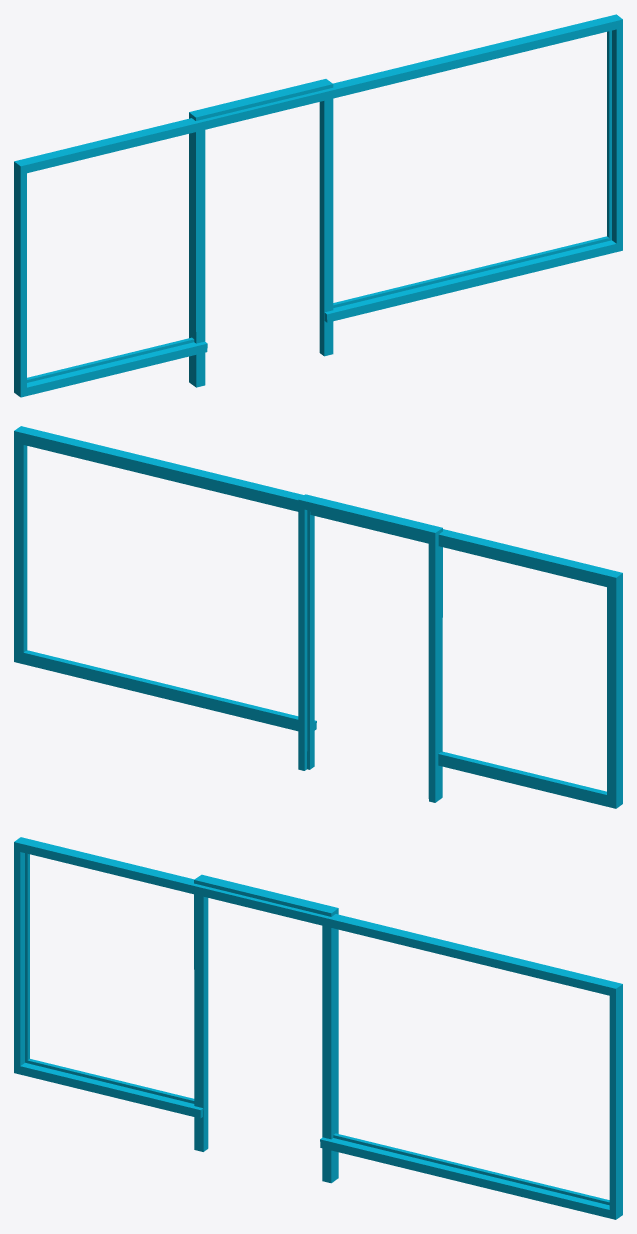
The model's file is Warehouse_02_Door_02.fbx.
The picture shows the model from 3 angles, top to bottom: view 1: azimuth 30°, elevation 25°; view 2: azimuth 150°, elevation 25°; view 3: azimuth 330°, elevation 25°; orthographic projection.
Visible parts, largest first — view 1: Warehouse_02_Door_02; view 2: Warehouse_02_Door_02; view 3: Warehouse_02_Door_02.
Part boxes in pixels (left/top/right/bottom): Warehouse_02_Door_02: left=14, top=14, right=622, bottom=397; Warehouse_02_Door_02: left=14, top=426, right=622, bottom=808; Warehouse_02_Door_02: left=14, top=837, right=622, bottom=1219.
Bounding box in the file's own units: 560 × 240 × 15.74.
